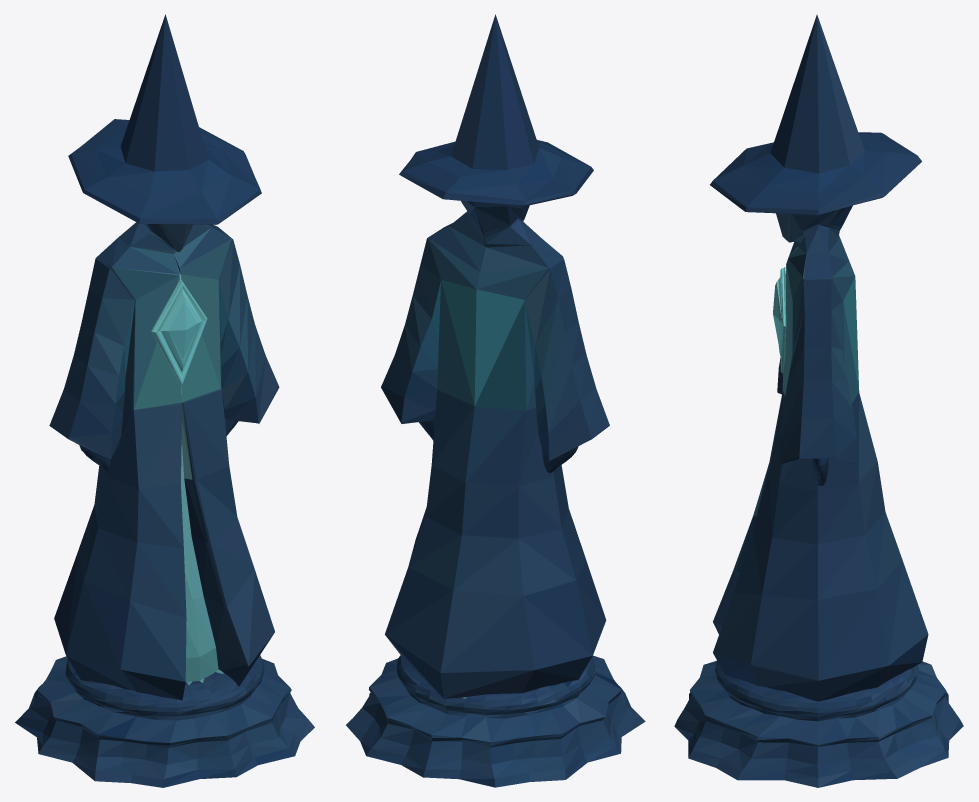
File: mage.glb
The picture shows the model from 3 angles, left to right: view 1: azimuth 30°, elevation 25°; view 2: azimuth 150°, elevation 25°; view 3: azimuth 270°, elevation 25°; orthographic projection.
Visible parts, largest first — view 1: mesh_node; view 2: mesh_node; view 3: mesh_node.
Boxes of the visible parts, x1,y1,x2,y2 form: mesh_node: (15, 14, 314, 787); mesh_node: (346, 14, 645, 787); mesh_node: (674, 14, 963, 787).
Size of the model in its own units: 0.3711 by 1 by 0.3691.
